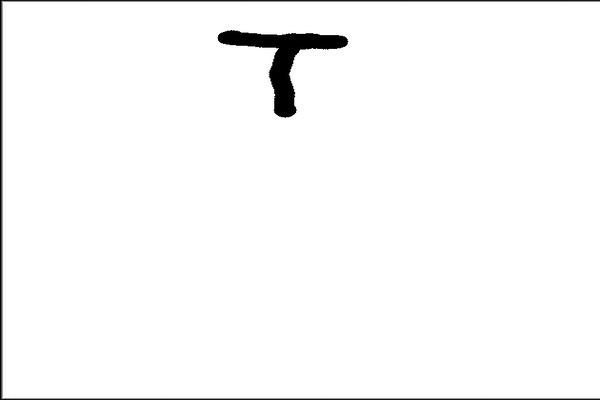T: (212, 23, 348, 119)
